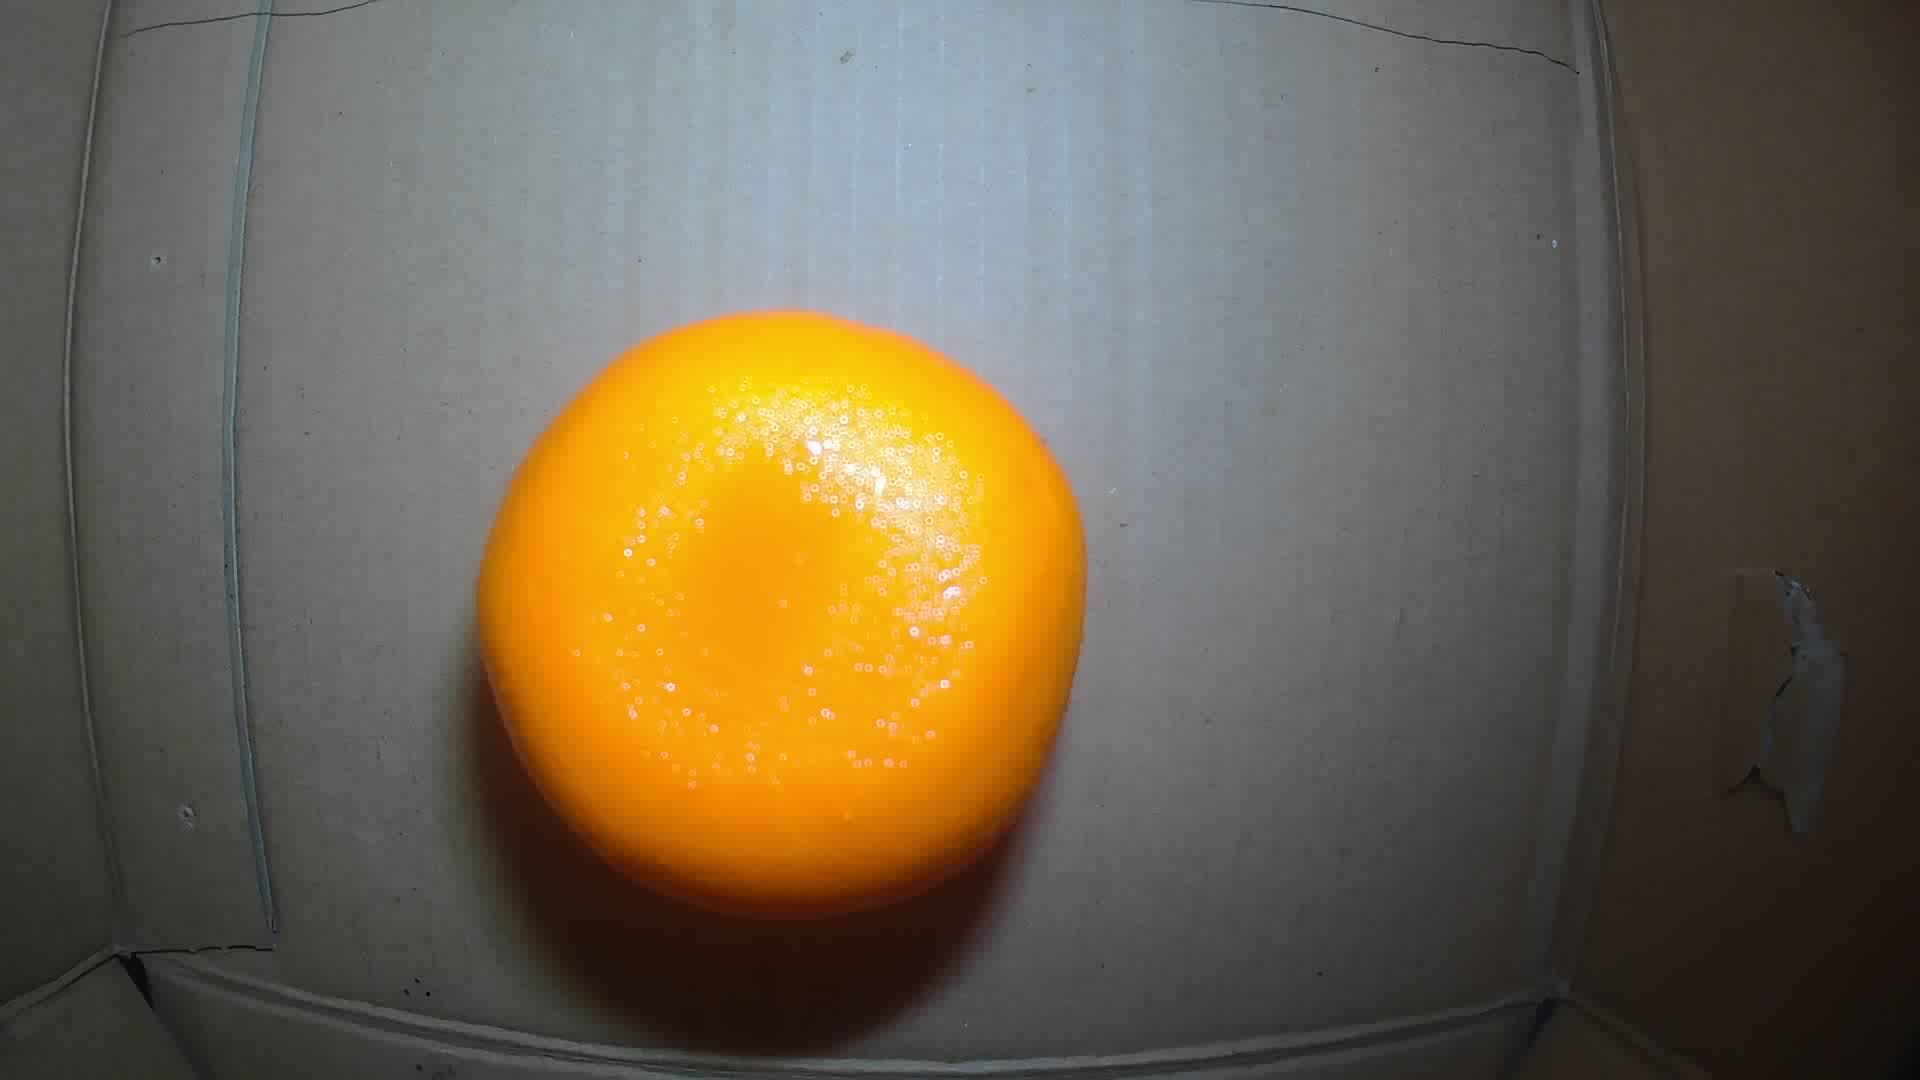orange: (477, 305, 1087, 919)
